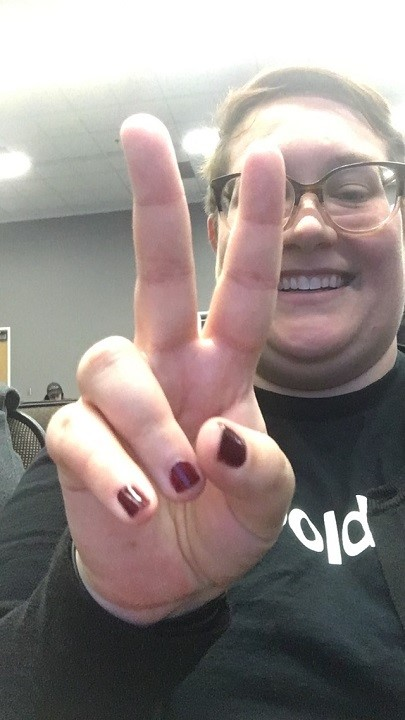hand: (45, 110, 296, 611)
